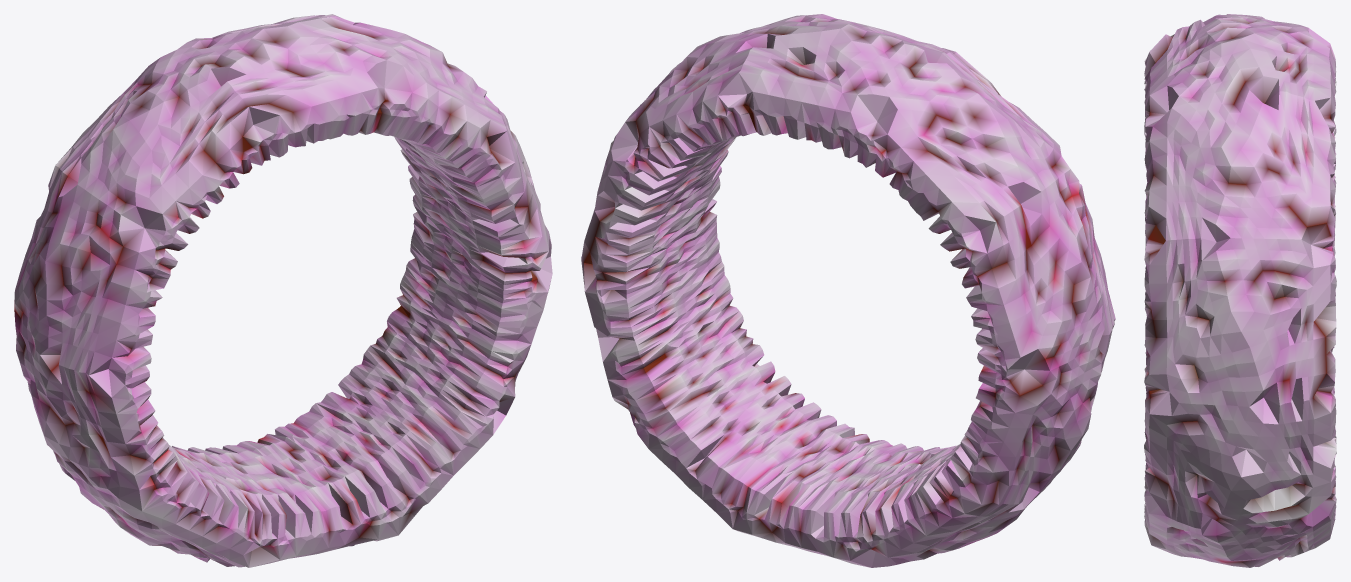
Rendered from ring_final300.obj.
3 views of the same model, side by side, from view 1: azimuth 30°, elevation 25°; view 2: azimuth 150°, elevation 25°; view 3: azimuth 270°, elevation 25° (orthographic). The views are drawn at different scales.
Bounding box in the file's own units: 2.15 × 2.19 × 0.749.
